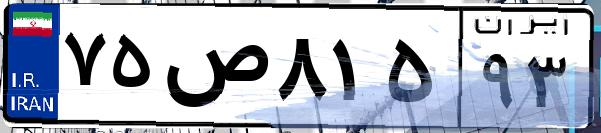1: (330, 28, 385, 110)
3: (525, 38, 570, 115)
5: (385, 28, 445, 110), (110, 28, 158, 98)
7: (57, 26, 110, 100)
8: (270, 28, 330, 110)
9: (475, 38, 525, 113)
ص: (158, 20, 270, 120)
